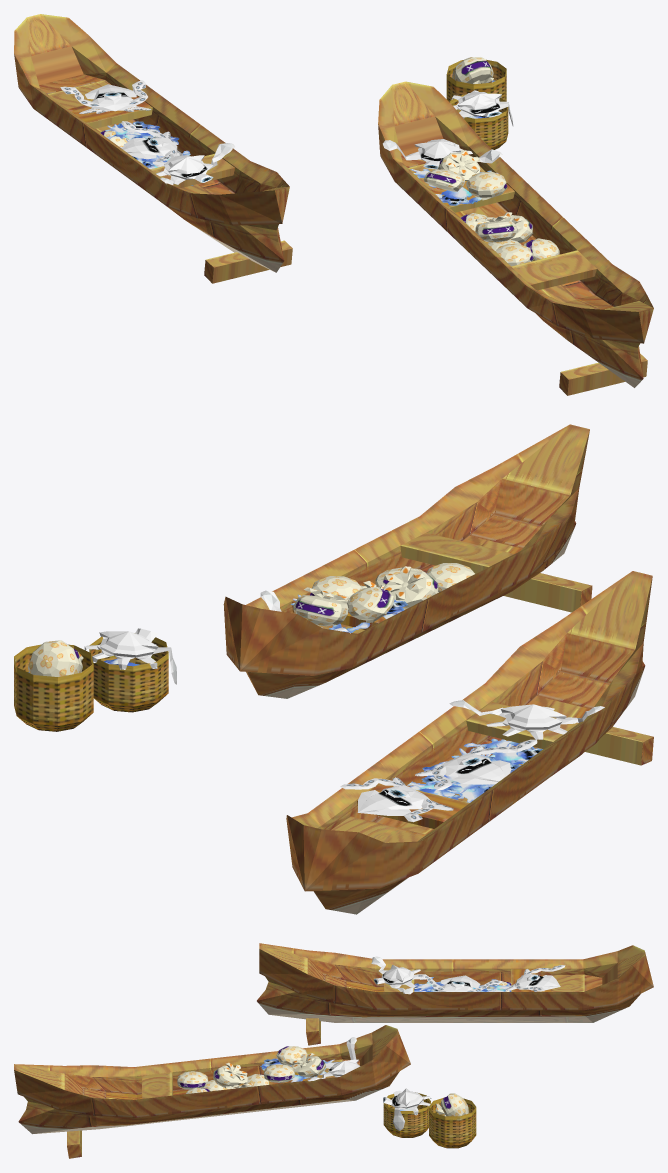
Rendered from riccoshipgeso.dae.
3 renders of one model, top to bottom at view 1: azimuth 30°, elevation 25°; view 2: azimuth 150°, elevation 25°; view 3: azimuth 270°, elevation 25°, orthographic. The views are drawn at different scales.
Parts seen in each view (by area): view 1: m0; view 2: m0; view 3: m0.
Part boxes in pixels (box(x1,y1,x2,y2)): m0: box(14, 14, 653, 395); m0: box(14, 424, 653, 914); m0: box(14, 943, 653, 1158).
Bounding box in the file's own units: 1148 × 442 × 2109.
Materials: 1 (1 with a texture image).
